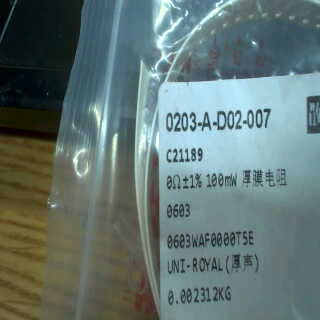0R: (164, 170, 240, 219)
